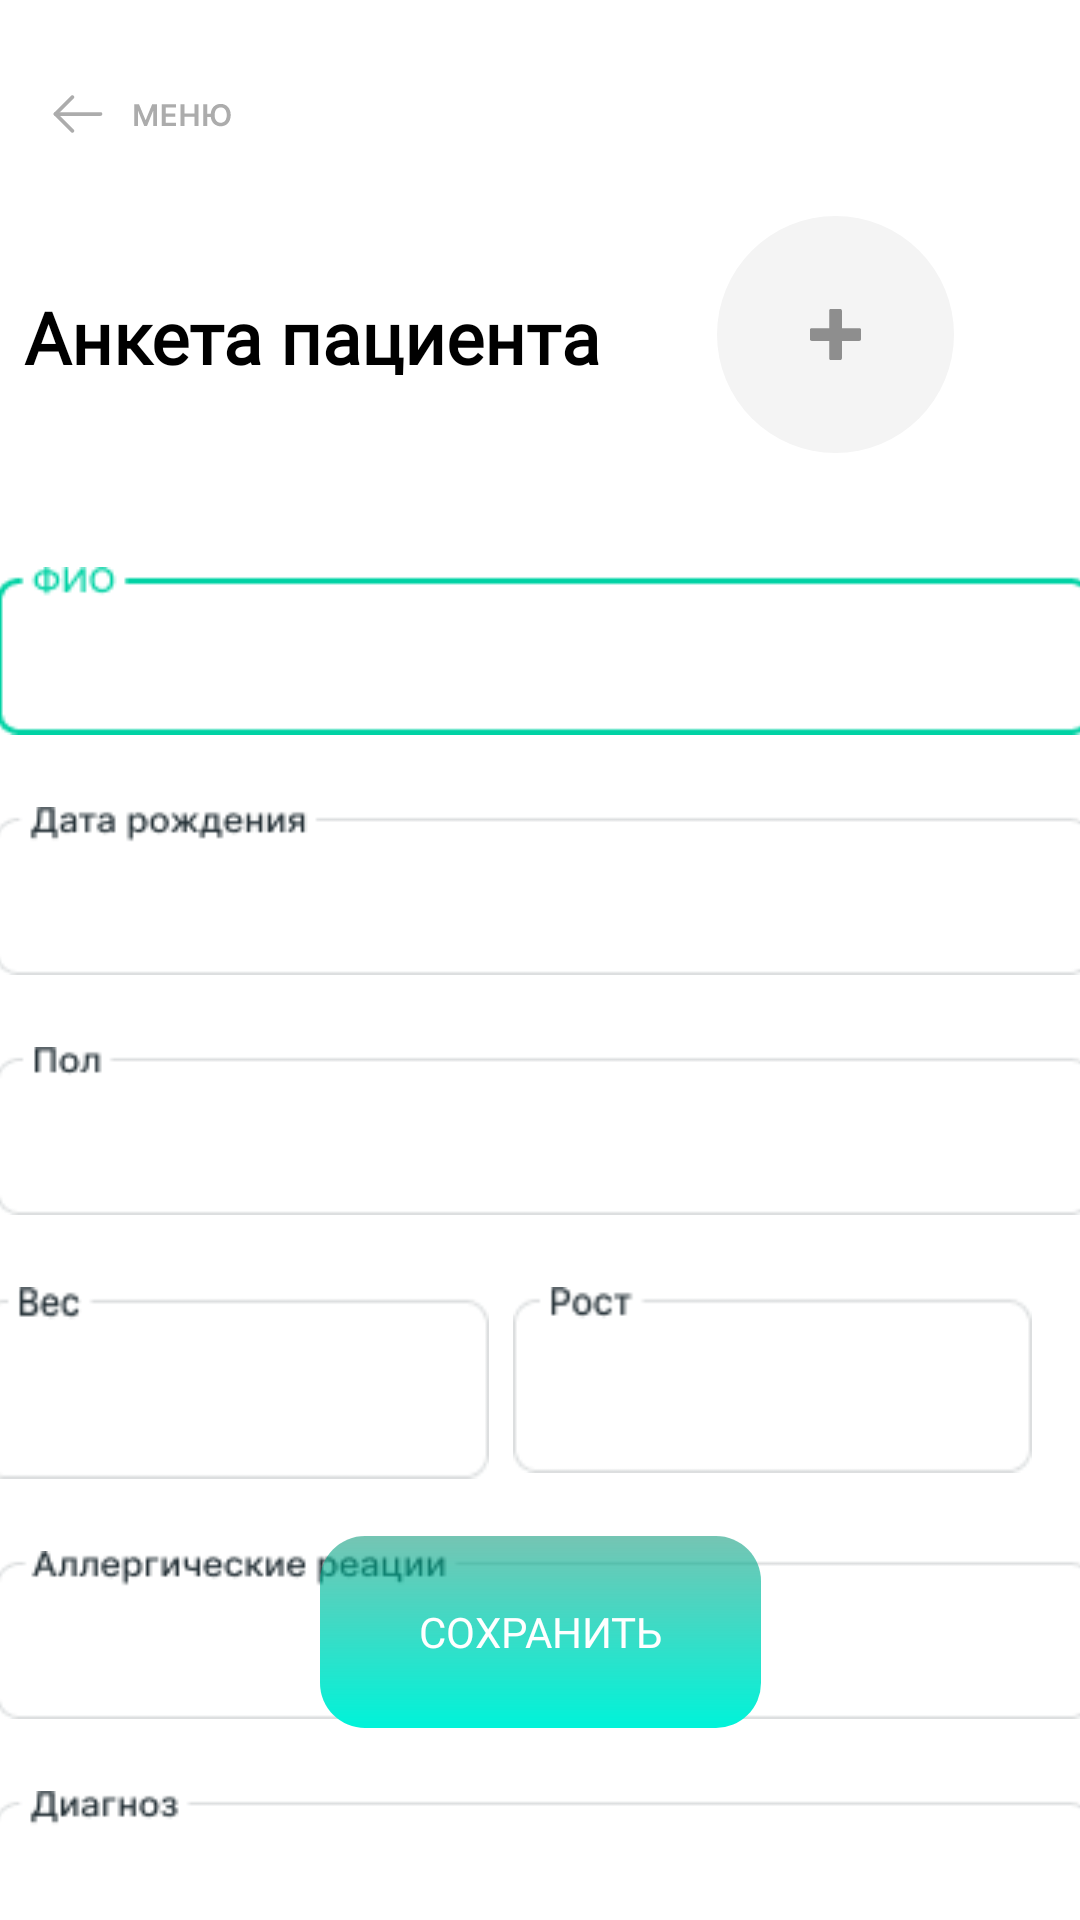

Locate icon controls on the screen. Image size 1080 x 1920, boxes as bbox=[x1, y1, x2, y2].
plus: bbox=[717, 216, 954, 453]
